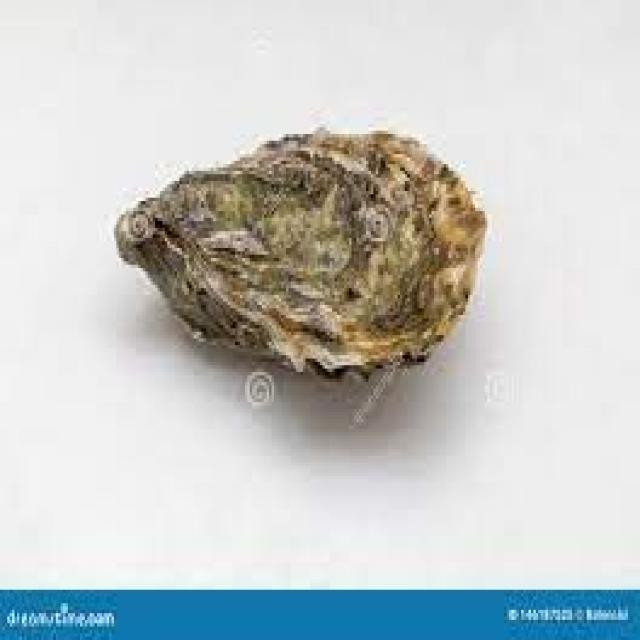Oyster- Indeterminate: (113, 125, 485, 381)
